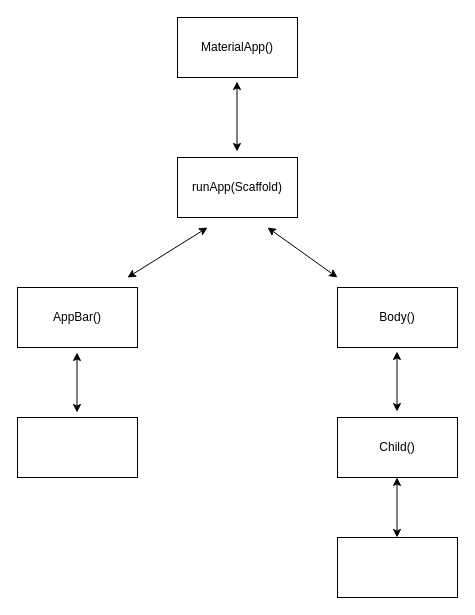
The diagram is 475 pixels wide and 615 high, and some of its shapes have lost their labels. Here are the shapes that lost their labels. From the top down, the centre of each, then its label:
(x=77, y=447): Text("İlk Uygulama")
(x=397, y=567): Text("Gövde Yapısı)
